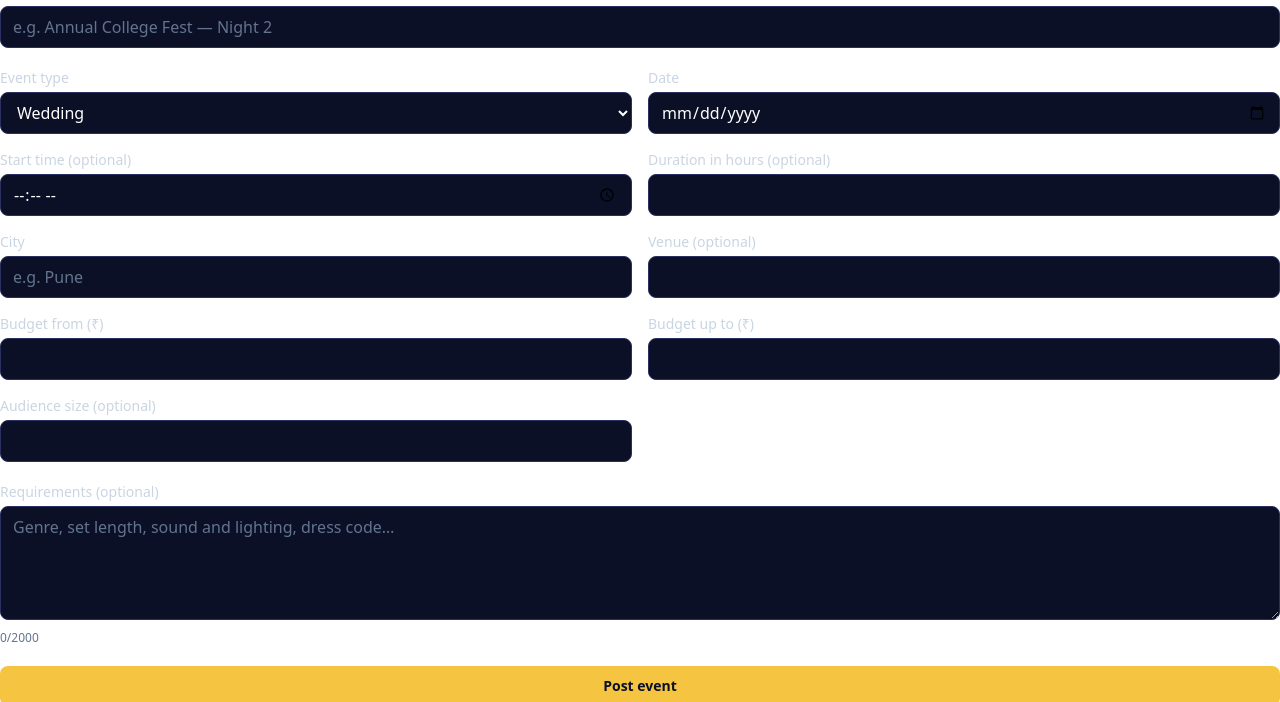
Scenario: EventForm › displays a save error from the page
This screenshot has width=1280, height=702.
Type "Diwali Night" into the field labelled "Event title".
click(640, 27); type("Diwali Night")  # box [0,6,1279,48]
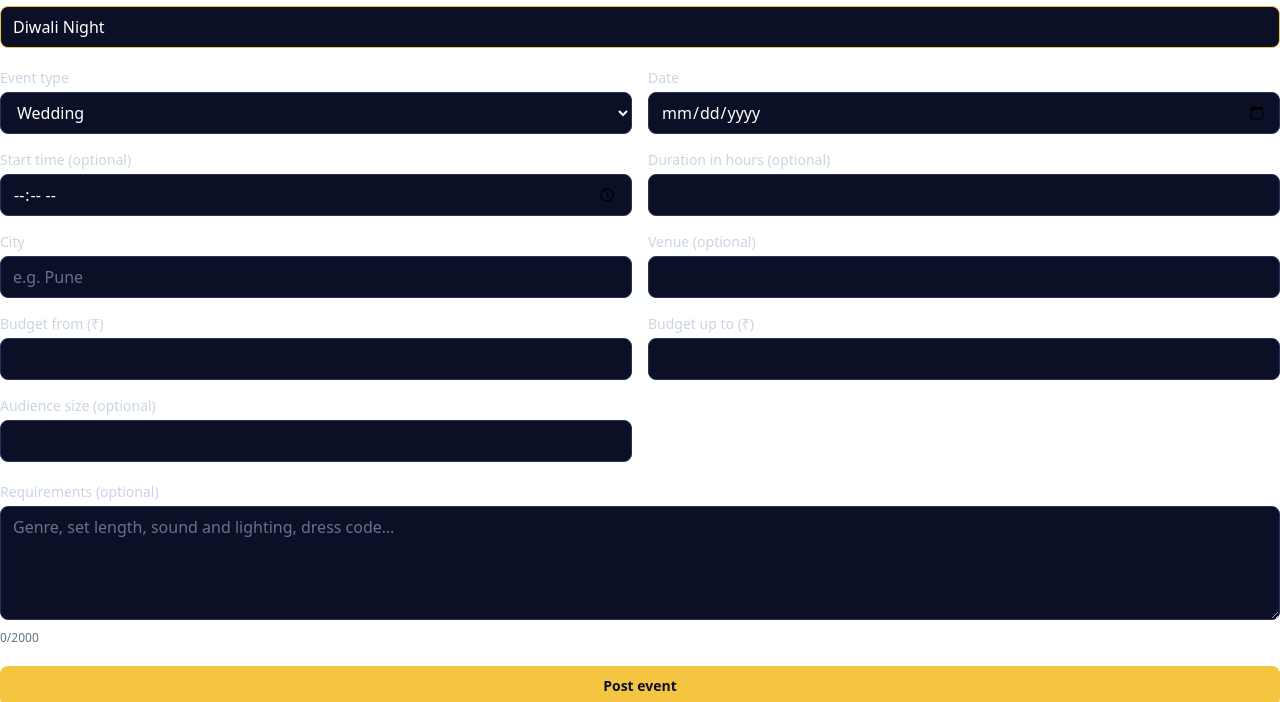
Type "2099-11-01" into the date field labelled "Date".
click(964, 113); type("2099-11-01")  # box [648,92,1279,134]
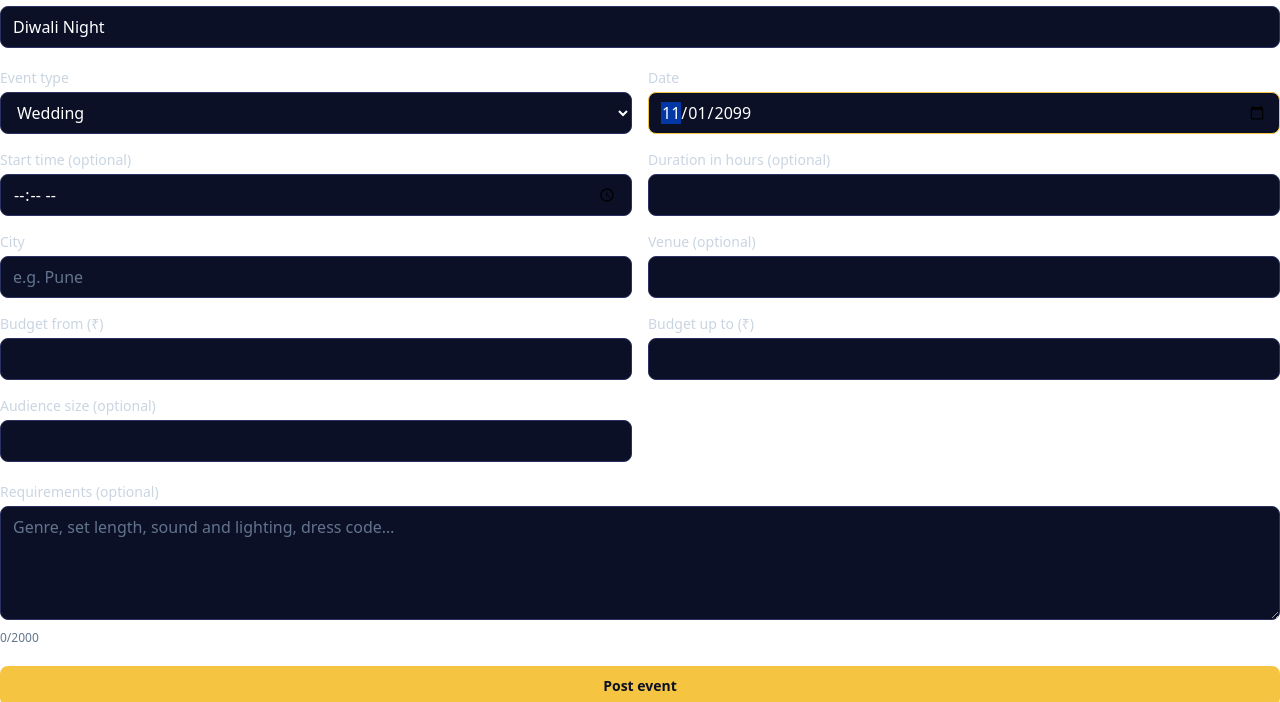
Type "Pune" into the field labelled "City".
click(316, 277); type("Pune")  # box [0,256,632,298]
(page scrolled)
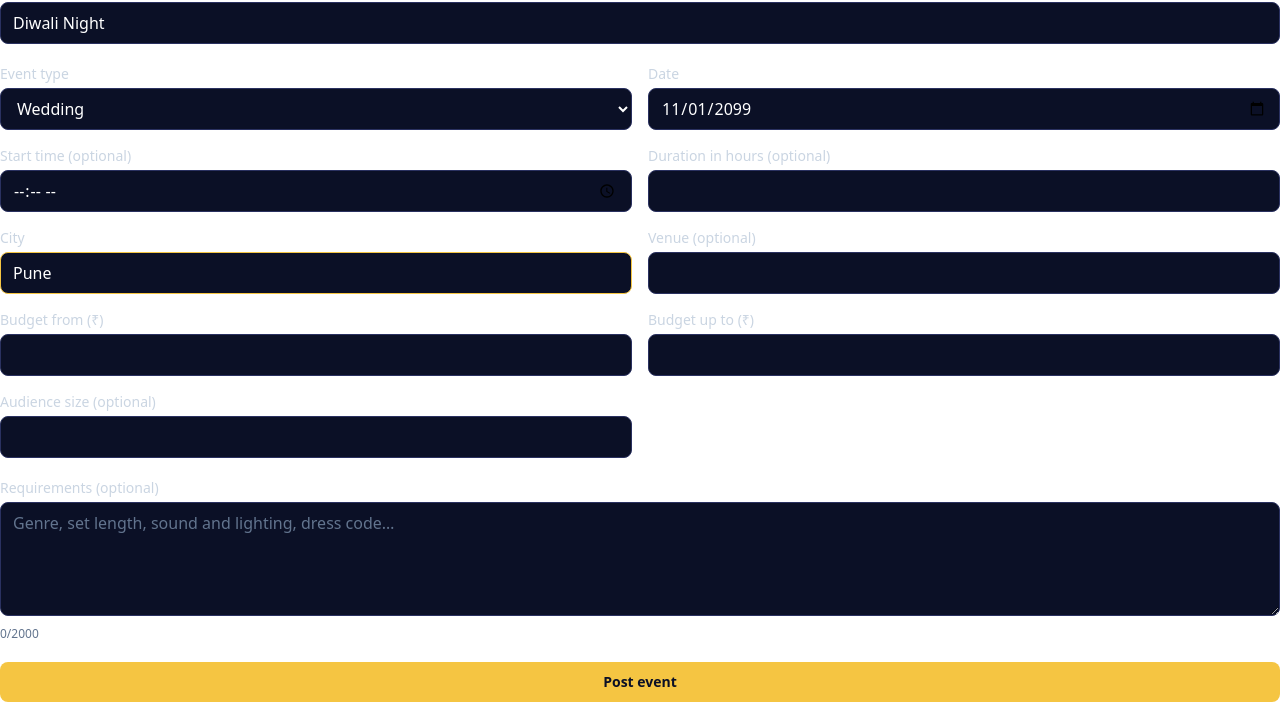
Click the button "Post event".
click(640, 682)  # box [0,662,1279,701]
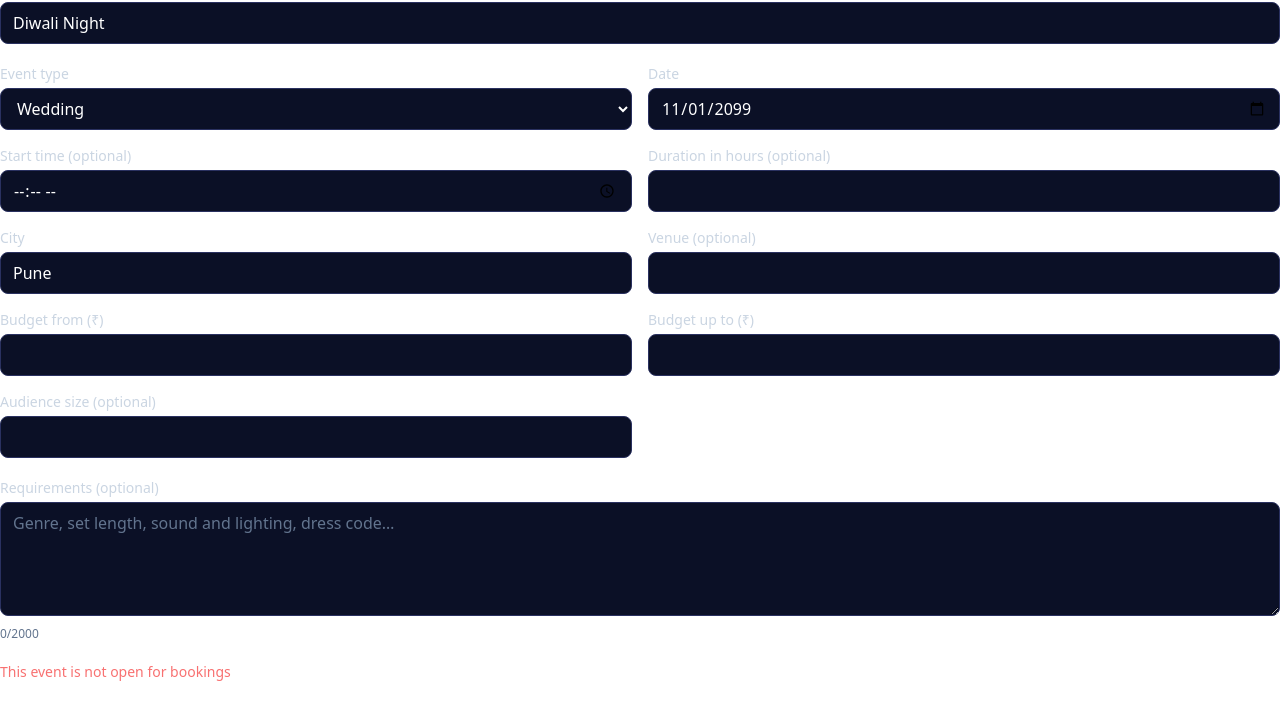
Check: the message reads "This event is not open for bookings", box [0,662,231,681]
